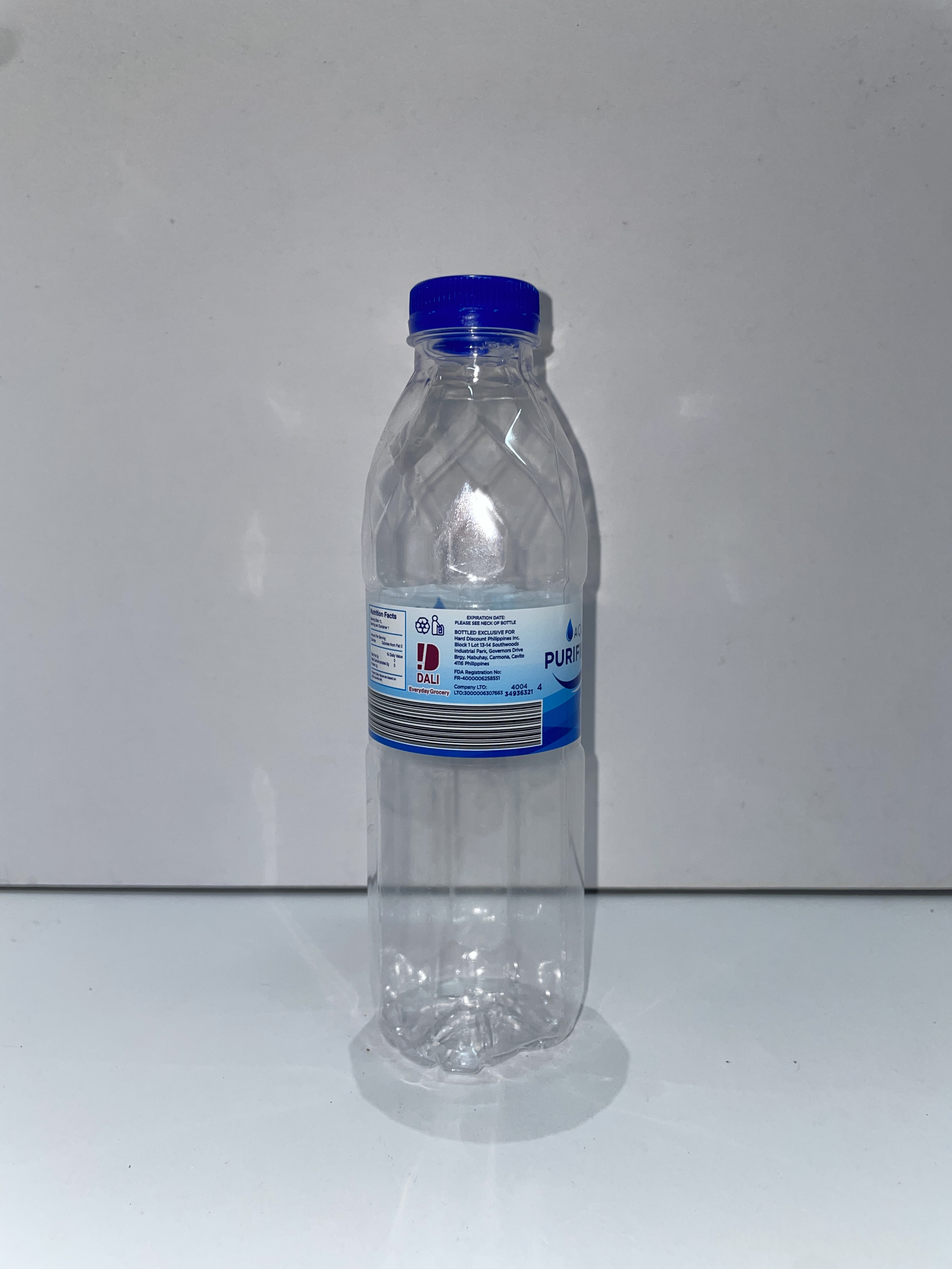Aquaspring 350ml: (362, 276, 587, 1071)
